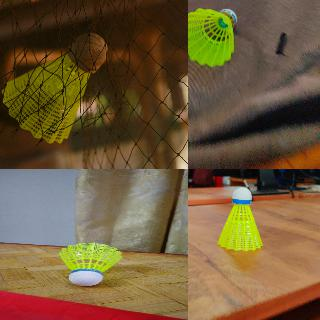shuttlecock: (2, 34, 106, 142), (216, 186, 262, 250), (188, 7, 237, 67), (59, 243, 121, 286)
